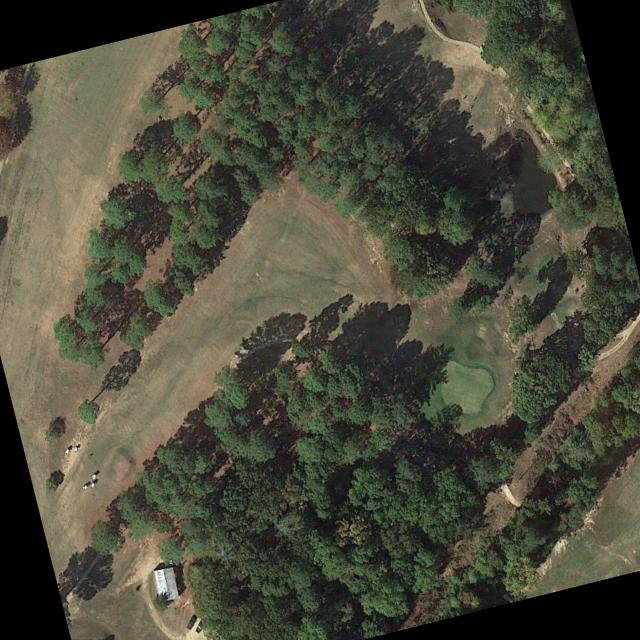small-vehicle: (193, 617, 206, 634), (185, 614, 196, 630)
